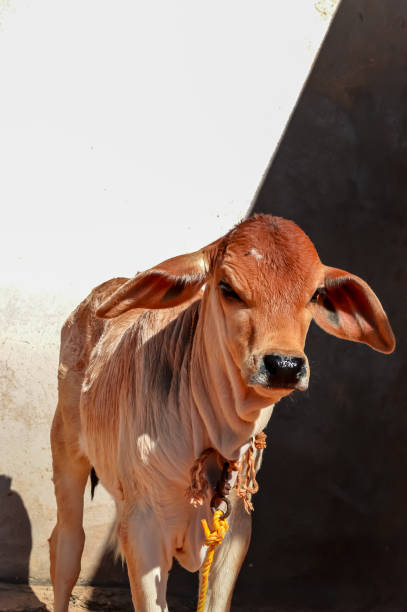cow: (25, 181, 396, 607)
